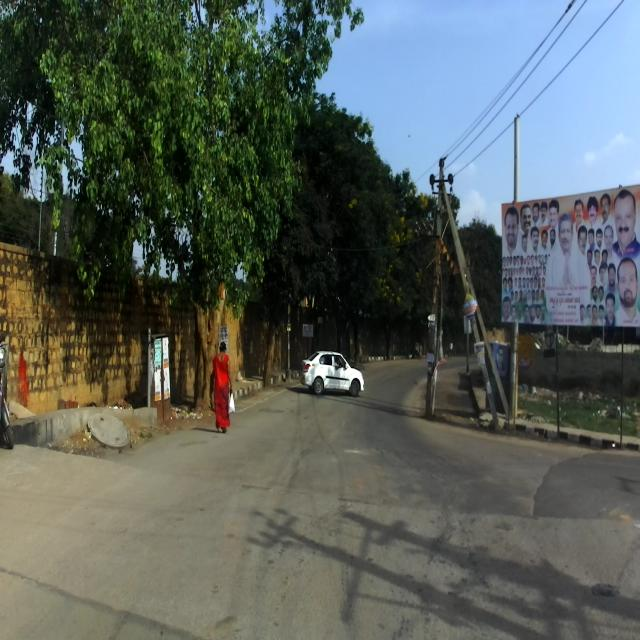car ahead at: (302, 344, 368, 404)
electric pole ahead at: (426, 155, 460, 415)
person ahead at: (212, 337, 235, 436)
tree ahead at: (180, 268, 228, 424)
